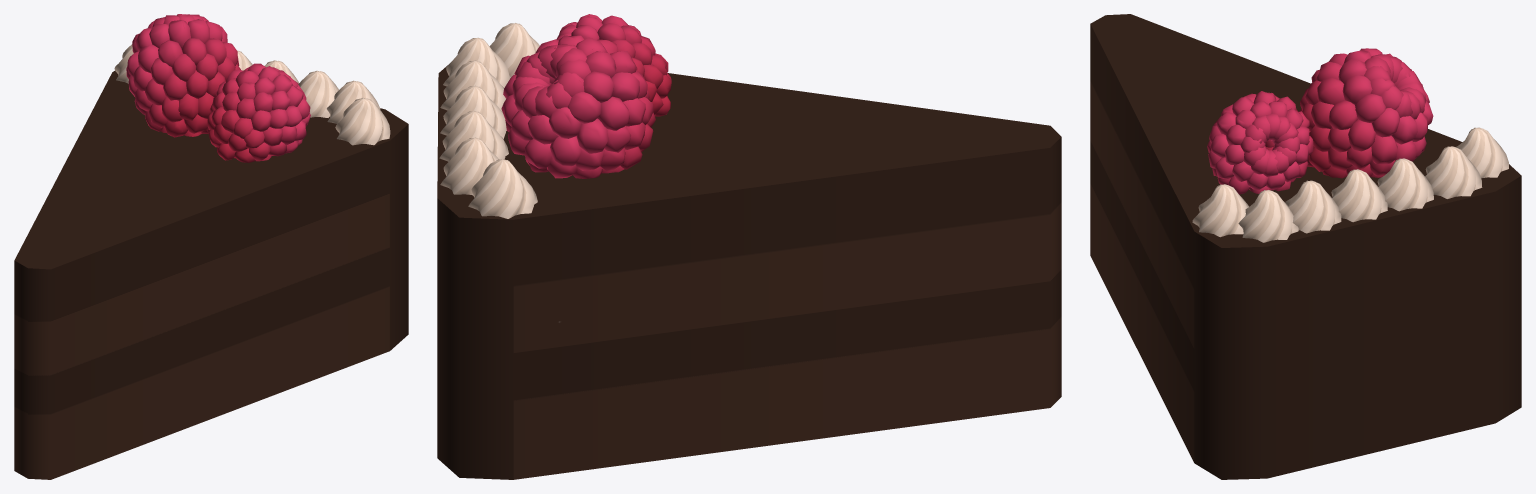
File: m_shortcakeV3.fbx
The picture shows the model from 3 angles, left to right: view 1: azimuth 30°, elevation 25°; view 2: azimuth 150°, elevation 25°; view 3: azimuth 270°, elevation 25°; orthographic projection. The views are drawn at different scales.
Parts seen in each view (by area): view 1: shortcakeV3; view 2: shortcakeV3; view 3: shortcakeV3.
Boxes of the visible parts, x1,y1,x2,y2 form: shortcakeV3: (14, 14, 408, 479); shortcakeV3: (437, 14, 1061, 479); shortcakeV3: (1090, 14, 1521, 479).
Size of the model in its own units: 21.39 by 14.49 by 16.65.
